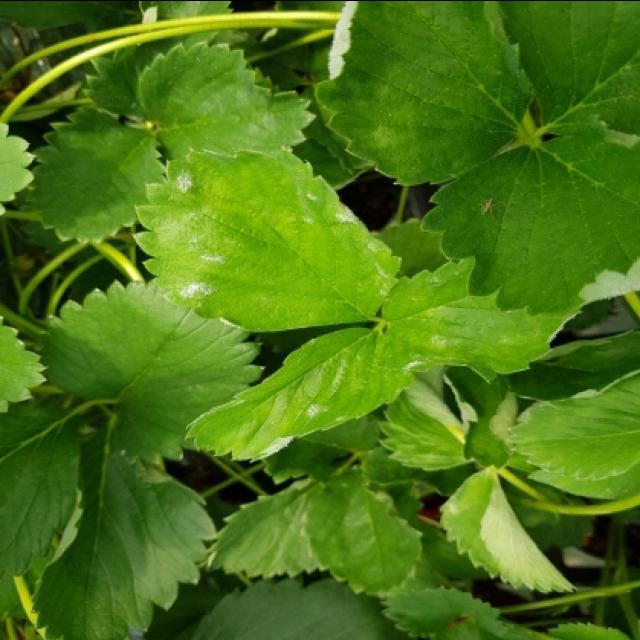Powdery Mildew Leaf: (131, 148, 402, 333), (419, 111, 638, 316), (316, 2, 533, 187), (184, 326, 412, 463), (381, 254, 584, 383), (439, 463, 579, 595)
